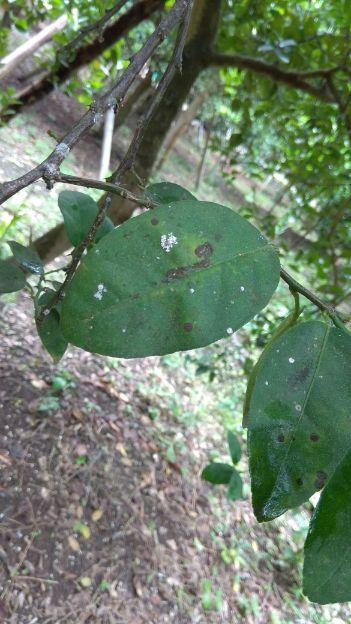Myzus persicae: (161, 233, 176, 252), (94, 284, 105, 299)
